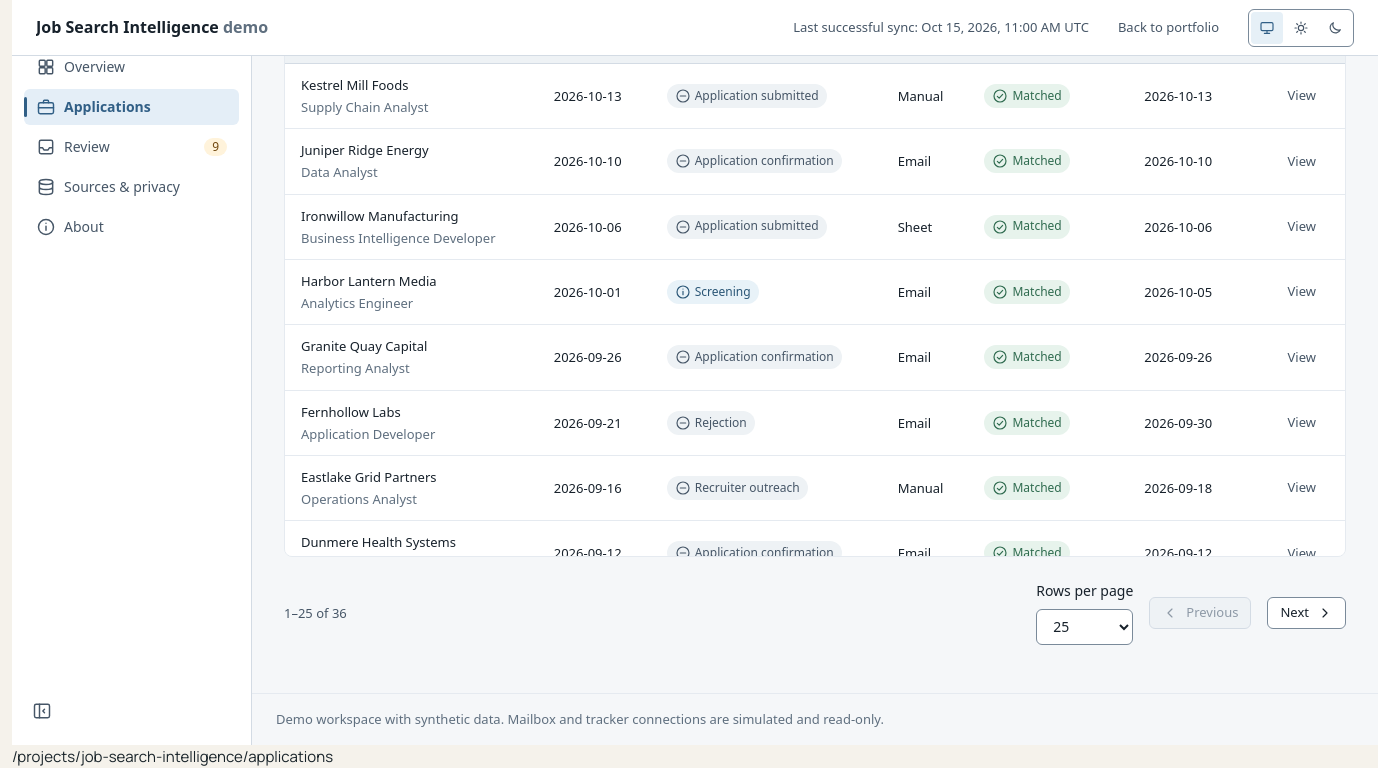
Test case: applications › pages through 36 seeded applications at 25 and 50 per page
(page scrolled)
Click the button "Next". click: (1307, 613)
box: [1268,597,1346,629]
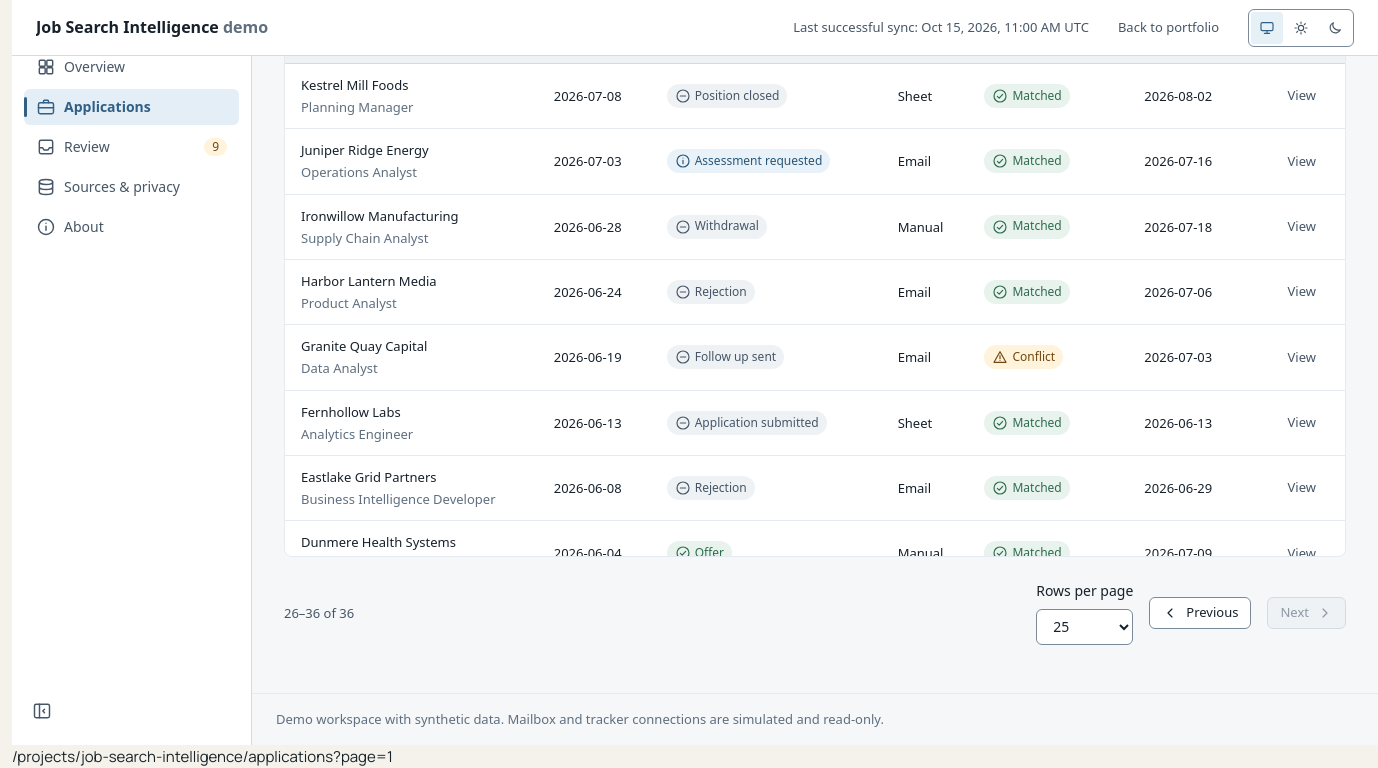
expect the text "26–36 of 36" is shown: met, box [284,604,354,622]
expect the button "Next" is disabled: met, box [1268,597,1346,629]
Select "50" in the dropdown labelled "Rows per page". click: (1085, 627)
box: [1036,609,1133,645]
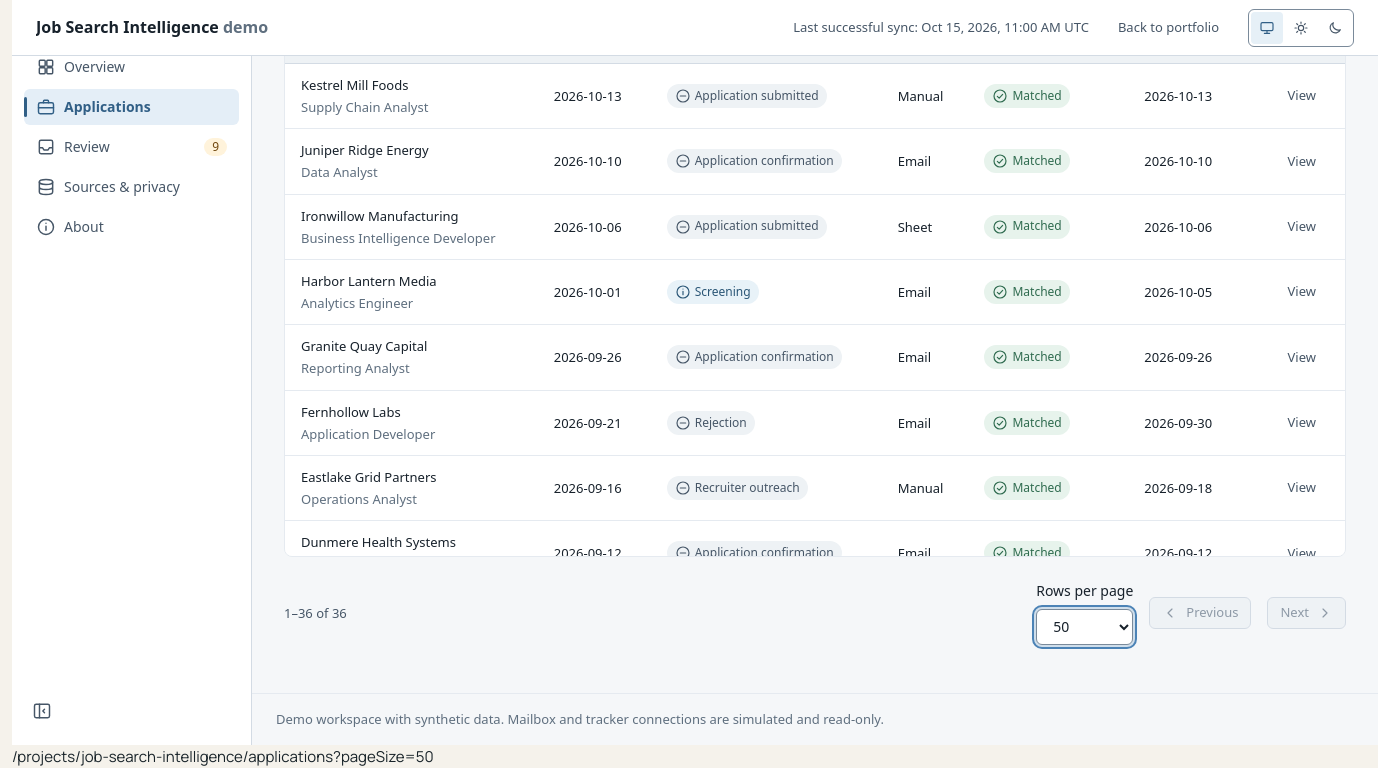
expect the text "1–36 of 36" is shown: met, box [284,604,347,622]
